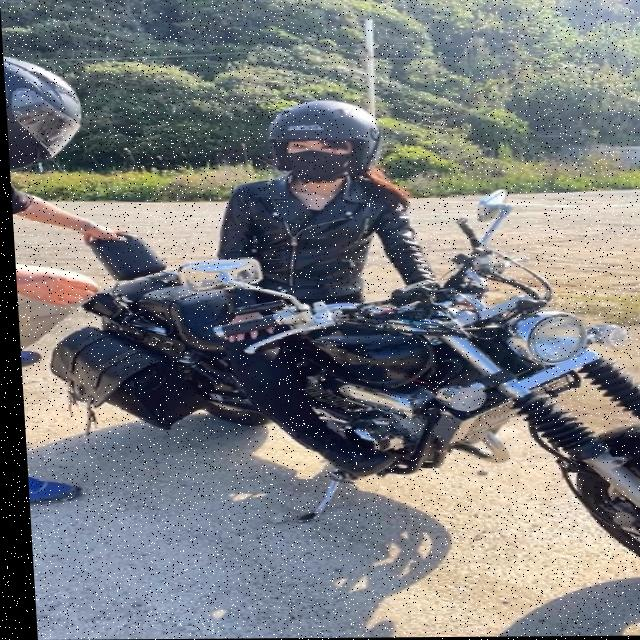helmet: (258, 97, 390, 188)
